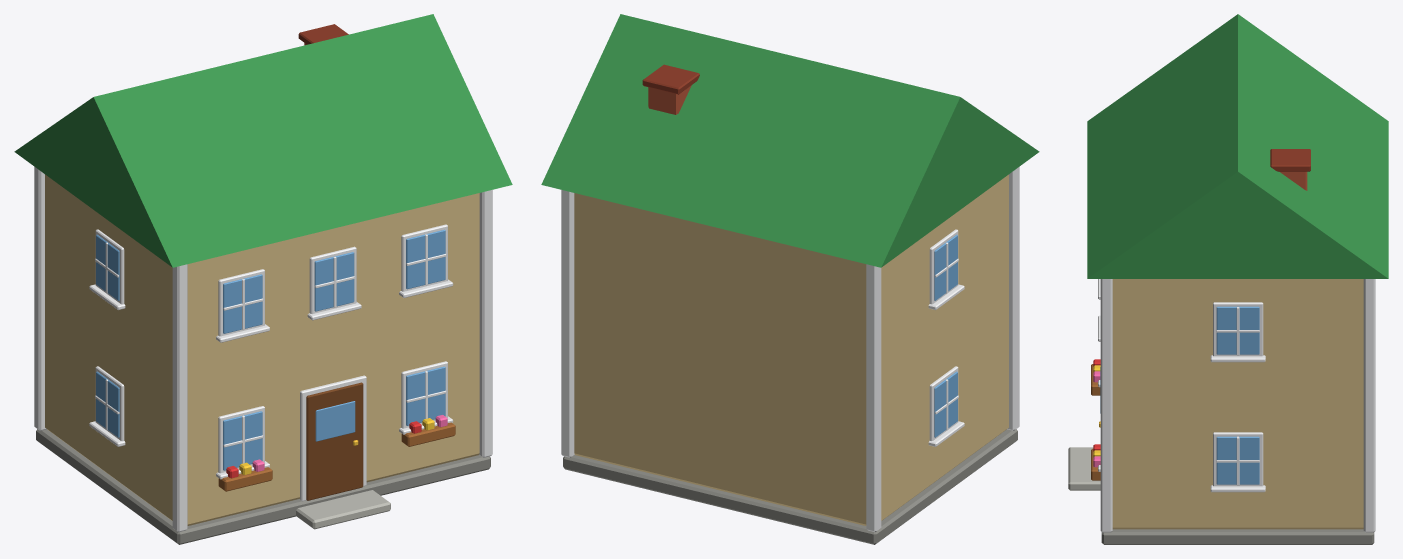
Rendered from TwoStoryHouse.fbx.
3 views of the same model, side by side, from view 1: azimuth 30°, elevation 25°; view 2: azimuth 150°, elevation 25°; view 3: azimuth 270°, elevation 25° (orthographic). The views are drawn at different scales.
Parts seen in each view (by area): view 1: TwoStoryHouse; view 2: TwoStoryHouse; view 3: TwoStoryHouse.
Part boxes in pixels (x1,y1,x2,y2): TwoStoryHouse: (14,14,512,544); TwoStoryHouse: (541,14,1039,544); TwoStoryHouse: (1068,14,1388,544).
Bounding box in the file's own units: 15.6 × 17.55 × 13.4.
1 material, 1 textured.
